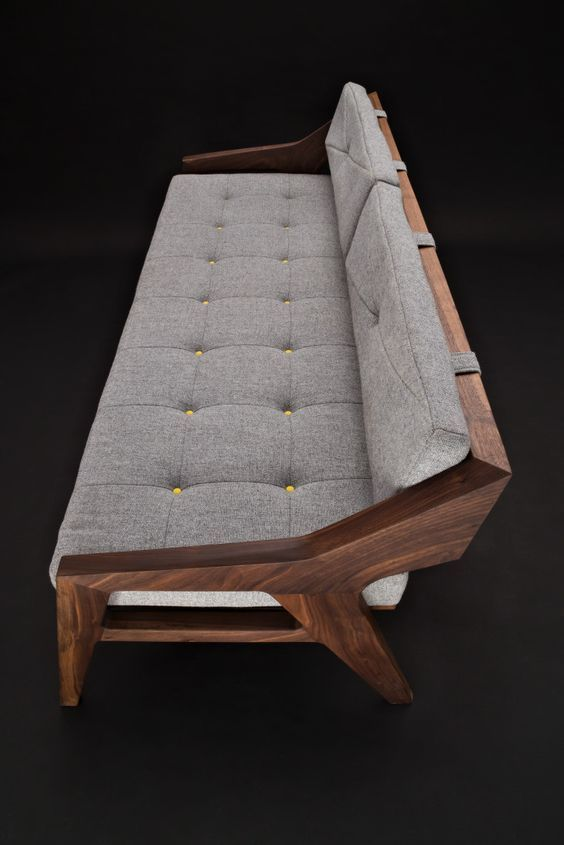3seatersofa: (50, 83, 510, 705)
backrest: (329, 83, 508, 497)
leftarmrest: (55, 451, 513, 644)
leg: (328, 643, 420, 707), (57, 649, 94, 707)
rightarmrest: (182, 123, 329, 173)
seat: (52, 177, 389, 576), (110, 591, 277, 605), (364, 575, 407, 609)
